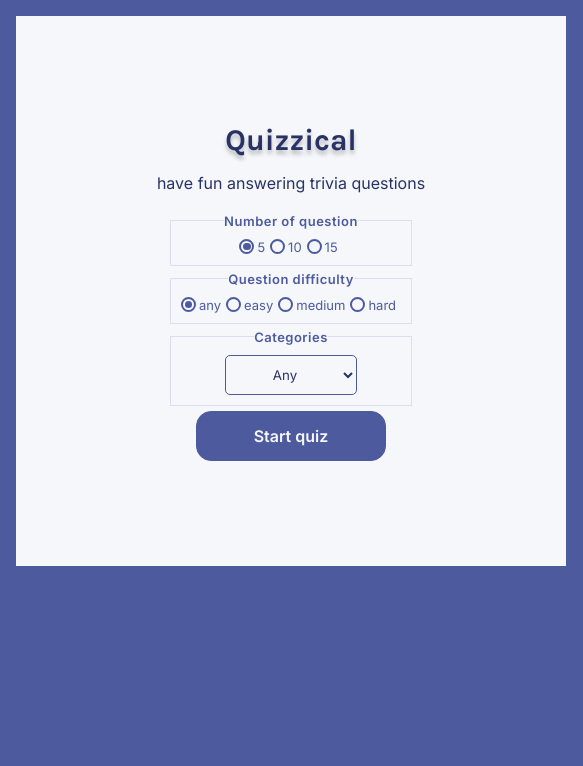
App component › quit/close quiz btn
Click the button "Start quiz". click: (291, 436)
box: [196,410,386,460]
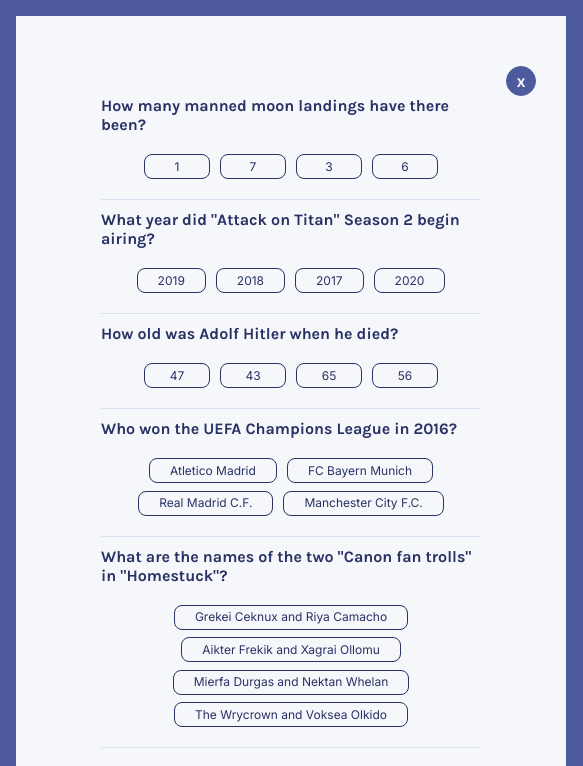
expect the button "x" is shown: met
Click the button "x". click: (521, 81)
box: [506,66,536,96]
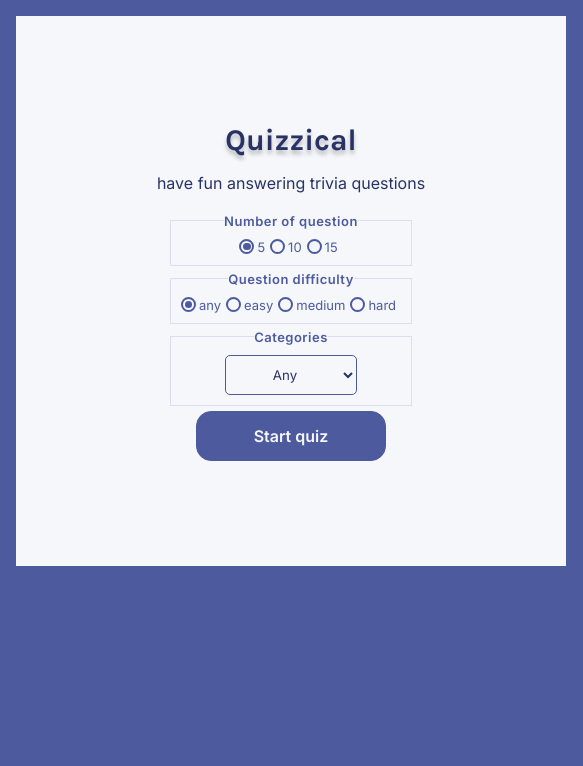
expect the heading "Quizzical" is shown: met, box [225,122,357,158]
